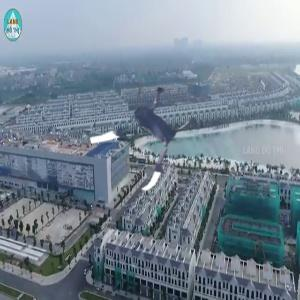drone: (85, 71, 208, 194)
